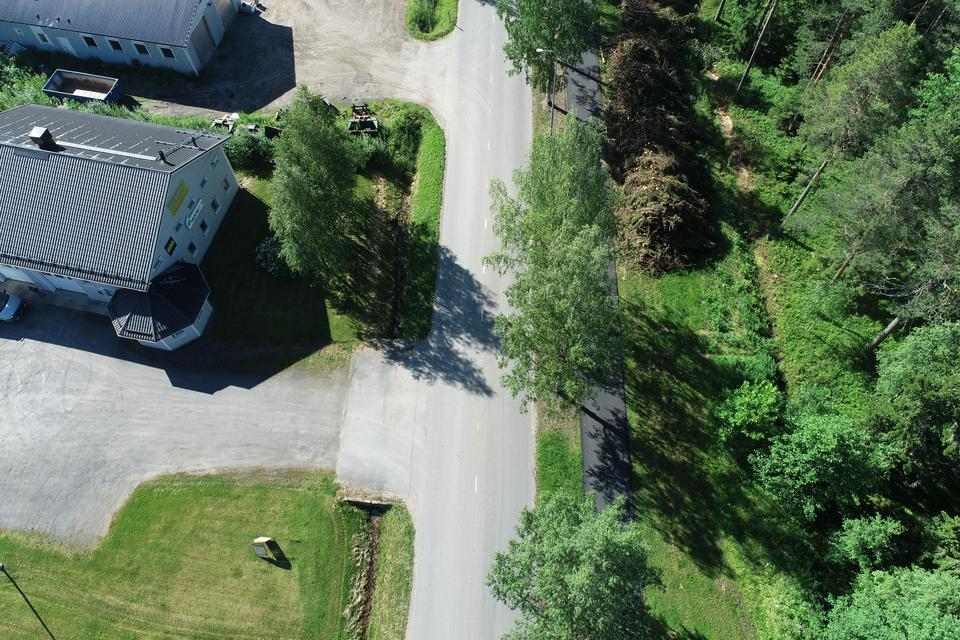intersection: (246, 301, 593, 515), (313, 2, 586, 125)
